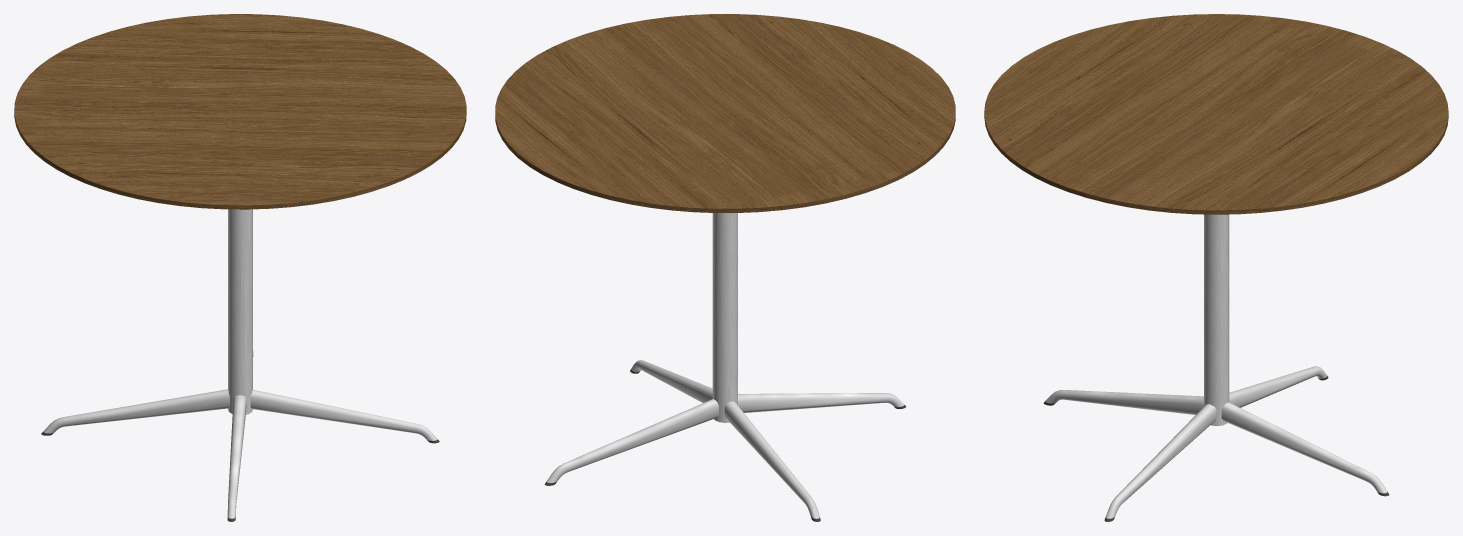
The picture shows the model from 3 angles, left to right: view 1: azimuth 30°, elevation 25°; view 2: azimuth 150°, elevation 25°; view 3: azimuth 270°, elevation 25°; orthographic projection. The views are drawn at different scales.
Parts seen in each view (by area): view 1: Obj3d66-513796-3-321; view 2: Obj3d66-513796-3-321; view 3: Obj3d66-513796-3-321.
Part boxes in pixels (x1=…): Obj3d66-513796-3-321: x1=14, y1=14, x2=466, y2=521; Obj3d66-513796-3-321: x1=495, y1=14, x2=955, y2=521; Obj3d66-513796-3-321: x1=984, y1=14, x2=1448, y2=521.
Bounding box in the file's own units: 0.8996 × 0.72 × 0.8996.
3 materials, 3 textured.
